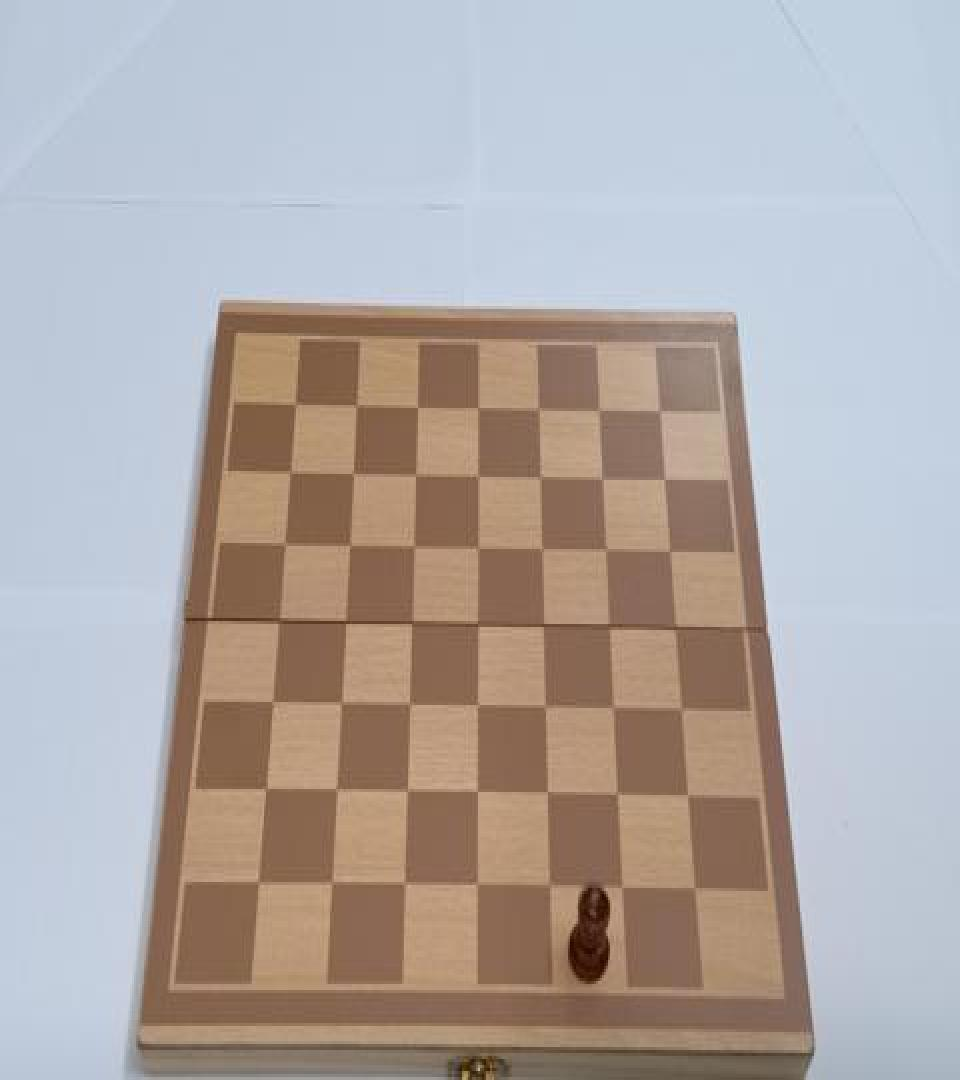xcorner: (280, 460, 298, 488), (408, 394, 426, 422), (399, 694, 417, 722), (468, 694, 486, 722), (593, 466, 611, 494), (275, 532, 293, 559), (269, 610, 287, 637), (256, 778, 274, 805), (346, 393, 364, 420), (343, 462, 361, 489), (339, 534, 357, 561), (335, 610, 353, 637), (331, 693, 349, 720), (327, 780, 345, 807), (402, 612, 420, 639), (397, 780, 415, 807), (395, 873, 413, 900), (468, 396, 486, 423), (468, 537, 486, 564), (467, 873, 485, 900), (529, 396, 547, 423), (531, 465, 549, 492), (532, 538, 550, 565), (534, 615, 552, 642), (536, 696, 554, 723), (538, 783, 556, 810), (540, 874, 558, 901), (590, 397, 608, 424), (596, 538, 614, 565), (600, 615, 618, 642), (608, 783, 626, 810), (612, 876, 630, 903), (650, 399, 668, 426), (655, 468, 673, 495), (660, 540, 678, 567), (666, 617, 684, 644), (678, 785, 696, 812), (684, 876, 702, 903), (285, 392, 303, 418), (262, 692, 280, 718), (249, 872, 267, 898), (322, 872, 340, 898), (406, 464, 424, 490), (404, 536, 422, 562), (468, 464, 486, 490), (468, 614, 486, 640), (468, 782, 486, 808), (604, 698, 622, 724), (671, 698, 689, 724)
